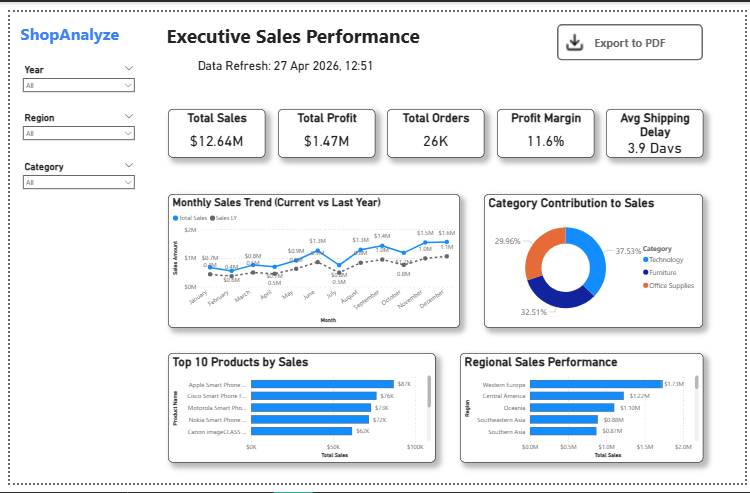

The dashboard page shown, as its layout file describes it:
{"tool":"powerbi","page":{"name":"Executive Overview","canvas":[1450,930],"ordinal":0},"visuals":[{"type":"slicer","fields":{"Values":["orders.Order Year"]},"box":[16,96,240,64],"z":0},{"type":"slicer","fields":{"Values":["orders.Region"]},"box":[16,192,240,64],"z":1000},{"type":"slicer","fields":{"Values":["orders.Category"]},"box":[16,288,240,64],"z":2000},{"type":"card","title":"Total Sales","fields":{"Values":["orders.Total Sales"]},"box":[312,192,192,96],"z":3000},{"type":"card","title":"Total Profit","fields":{"Values":["orders.Total Profit"]},"box":[528,192,192,96],"z":4000},{"type":"card","title":"Total Orders","fields":{"Values":["orders.Total Orders"]},"box":[744,192,192,96],"z":5000},{"type":"card","title":"Profit Margin","fields":{"Values":["orders.Profit Margin"]},"box":[960,192,192,96],"z":6000},{"type":"card","title":"Avg Shipping Delay","fields":{"Values":["orders.Avg Shipping Delay Display"]},"box":[1176,192,192,96],"z":7000},{"type":"lineChart","title":"Monthly Sales Trend (Current vs Last Year)","fields":{"Y":["orders.Total Sales","orders.Sales LY"],"Category":["Date Table.Month"]},"box":[312,360,576,264],"z":8000},{"type":"donutChart","title":"Category Contribution to Sales","fields":{"Category":["orders.Category"],"Y":["orders.Total Sales"]},"box":[936,360,432,264],"z":9000},{"type":"clusteredBarChart","title":"Top 10 Products by Sales","fields":{"Y":["orders.Total Sales"],"Category":["orders.Product Name"]},"box":[312,672,528,216],"z":10000},{"type":"clusteredBarChart","title":"Regional Sales Performance","fields":{"Category":["orders.Region"],"Y":["orders.Total Sales"]},"box":[888,672,480,216],"z":11000},{"type":"textbox","box":[16,16,240,64],"z":12000},{"type":"textbox","box":[304,16,608,64],"z":13000},{"type":"card","fields":{"Values":["Refresh Time.Last Refresh Time"]},"box":[304,80,480,48],"z":14000},{"type":"actionButton","box":[1080,24,288,72],"z":15000}]}

Visuals, with their boxes in screenshot pixels (x1, y1, x2, y2), scaled from the page's 1450x930 canvas onto the 750x493 screenshot:
slicer - orders.Order Year: bbox=[8, 51, 132, 85]
slicer - orders.Region: bbox=[8, 102, 132, 136]
slicer - orders.Category: bbox=[8, 153, 132, 187]
"Total Sales" card: bbox=[161, 102, 261, 153]
"Total Profit" card: bbox=[273, 102, 372, 153]
"Total Orders" card: bbox=[385, 102, 484, 153]
"Profit Margin" card: bbox=[497, 102, 596, 153]
"Avg Shipping Delay" card: bbox=[608, 102, 708, 153]
"Monthly Sales Trend (Current vs Last Year)" lineChart: bbox=[161, 191, 459, 331]
"Category Contribution to Sales" donutChart: bbox=[484, 191, 708, 331]
"Top 10 Products by Sales" clusteredBarChart: bbox=[161, 356, 434, 471]
"Regional Sales Performance" clusteredBarChart: bbox=[459, 356, 708, 471]
textbox: bbox=[8, 8, 132, 42]
textbox: bbox=[157, 8, 472, 42]
card - Refresh Time.Last Refresh Time: bbox=[157, 42, 406, 68]
actionButton: bbox=[559, 13, 708, 51]
